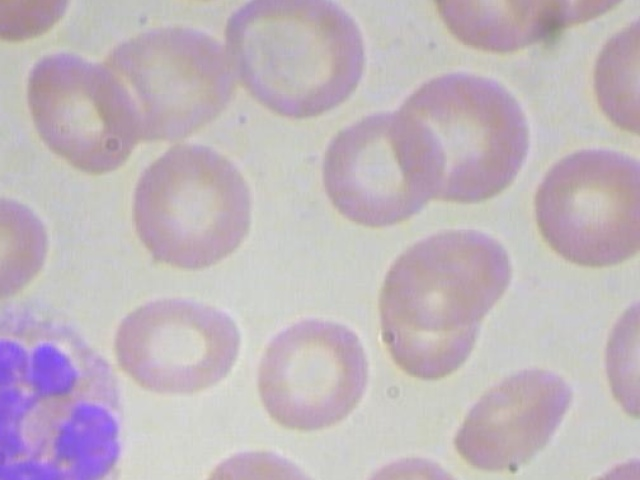RBC: (386, 66, 533, 211), (217, 0, 374, 126), (109, 14, 251, 145), (114, 139, 256, 269), (442, 349, 583, 479), (312, 106, 446, 231), (244, 315, 385, 428), (519, 143, 640, 273), (376, 221, 522, 328), (374, 240, 483, 380), (23, 41, 139, 171), (110, 290, 242, 402), (424, 0, 577, 62)
WBC: (0, 292, 148, 480)
